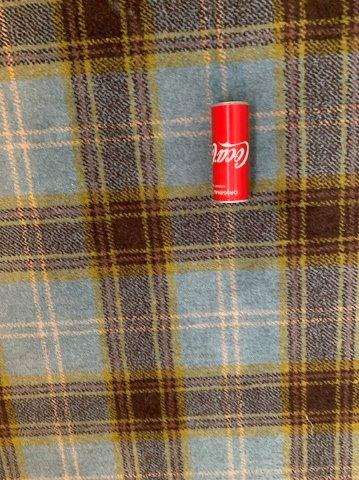kaleng: (211, 101, 251, 202)
